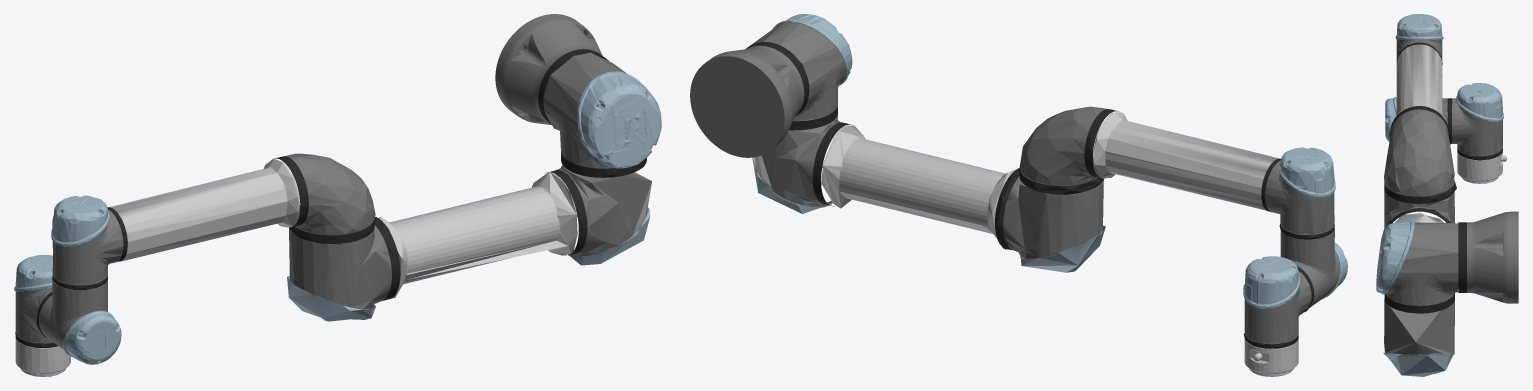
File: ur5e_rig.glb
3 renders of one model, left to right at view 1: azimuth 30°, elevation 25°; view 2: azimuth 150°, elevation 25°; view 3: azimuth 270°, elevation 25°, orthographic. The views are drawn at different scales.
Visible parts, largest first — view 1: upper_arm_link_geom, forearm_link_geom, shoulder_link_geom, base_geom, wrist_1_link_geom, wrist_2_link_geom, wrist_3_link_geom; view 2: upper_arm_link_geom, forearm_link_geom, base_geom, shoulder_link_geom, wrist_2_link_geom, wrist_1_link_geom, wrist_3_link_geom; view 3: forearm_link_geom, shoulder_link_geom, upper_arm_link_geom, base_geom, wrist_2_link_geom, wrist_3_link_geom, wrist_1_link_geom.
Part boxes in pixels (x1,y1,x2,y2): upper_arm_link_geom: [287, 165, 651, 321]; forearm_link_geom: [51, 153, 375, 290]; shoulder_link_geom: [543, 52, 661, 177]; base_geom: [495, 14, 608, 124]; wrist_1_link_geom: [36, 280, 121, 364]; wrist_2_link_geom: [14, 255, 58, 347]; wrist_3_link_geom: [15, 338, 70, 376]; upper_arm_link_geom: [752, 114, 1105, 272]; forearm_link_geom: [1019, 106, 1335, 239]; base_geom: [690, 42, 809, 157]; shoulder_link_geom: [746, 14, 852, 130]; wrist_2_link_geom: [1243, 256, 1311, 348]; wrist_1_link_geom: [1280, 228, 1347, 312]; wrist_3_link_geom: [1244, 339, 1298, 376]; forearm_link_geom: [1384, 14, 1454, 196]; shoulder_link_geom: [1376, 221, 1458, 313]; upper_arm_link_geom: [1383, 180, 1456, 376]; base_geom: [1458, 211, 1518, 303]; wrist_2_link_geom: [1452, 83, 1503, 160]; wrist_3_link_geom: [1457, 151, 1506, 183]; wrist_1_link_geom: [1385, 97, 1451, 144].
Size of the model in its own units: 0.9319 by 0.3085 by 0.2341.
